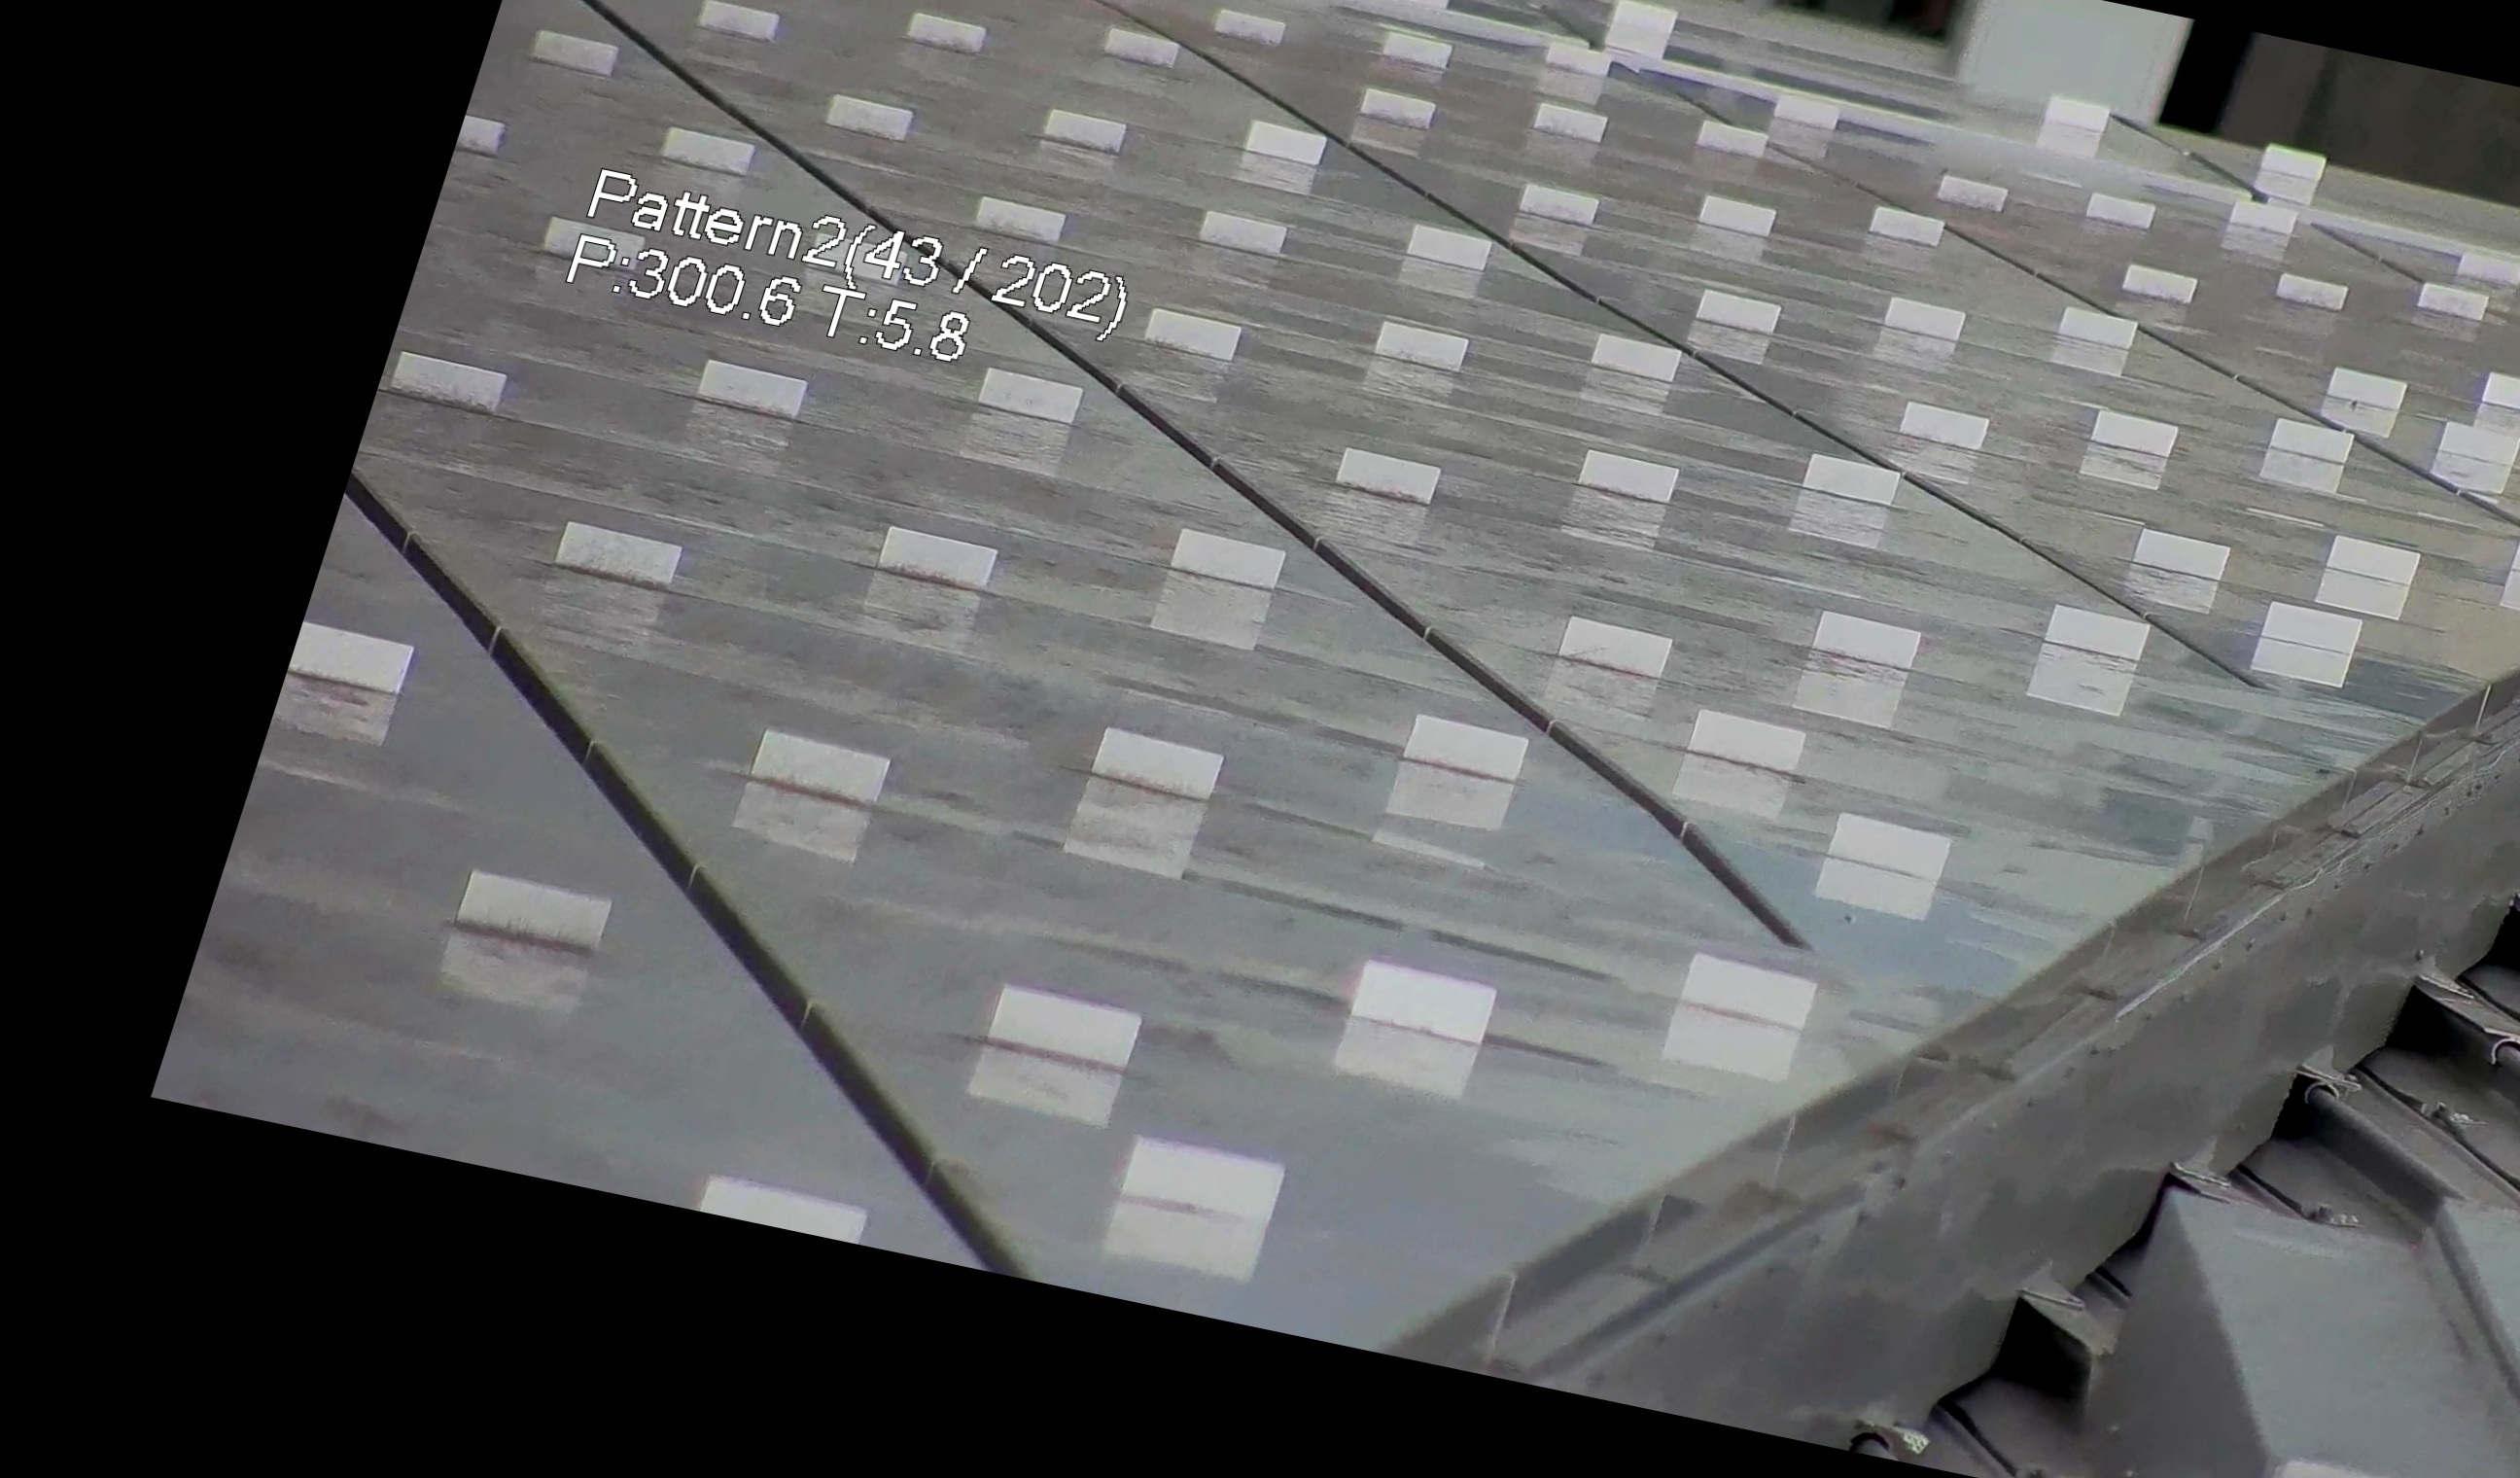Other: (1757, 1387, 1956, 1478)
